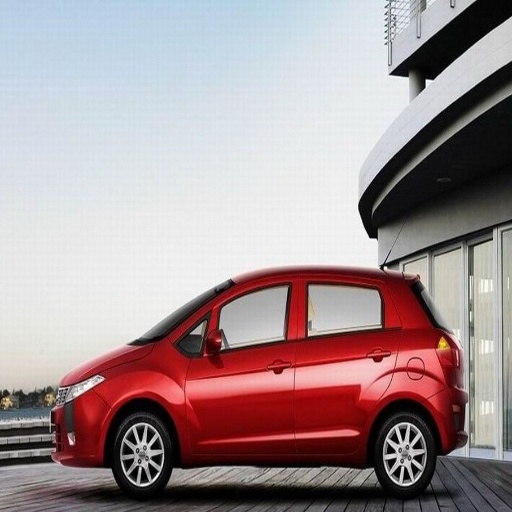back_left_door: (296, 275, 399, 450)
front_left_door: (188, 277, 297, 451)
